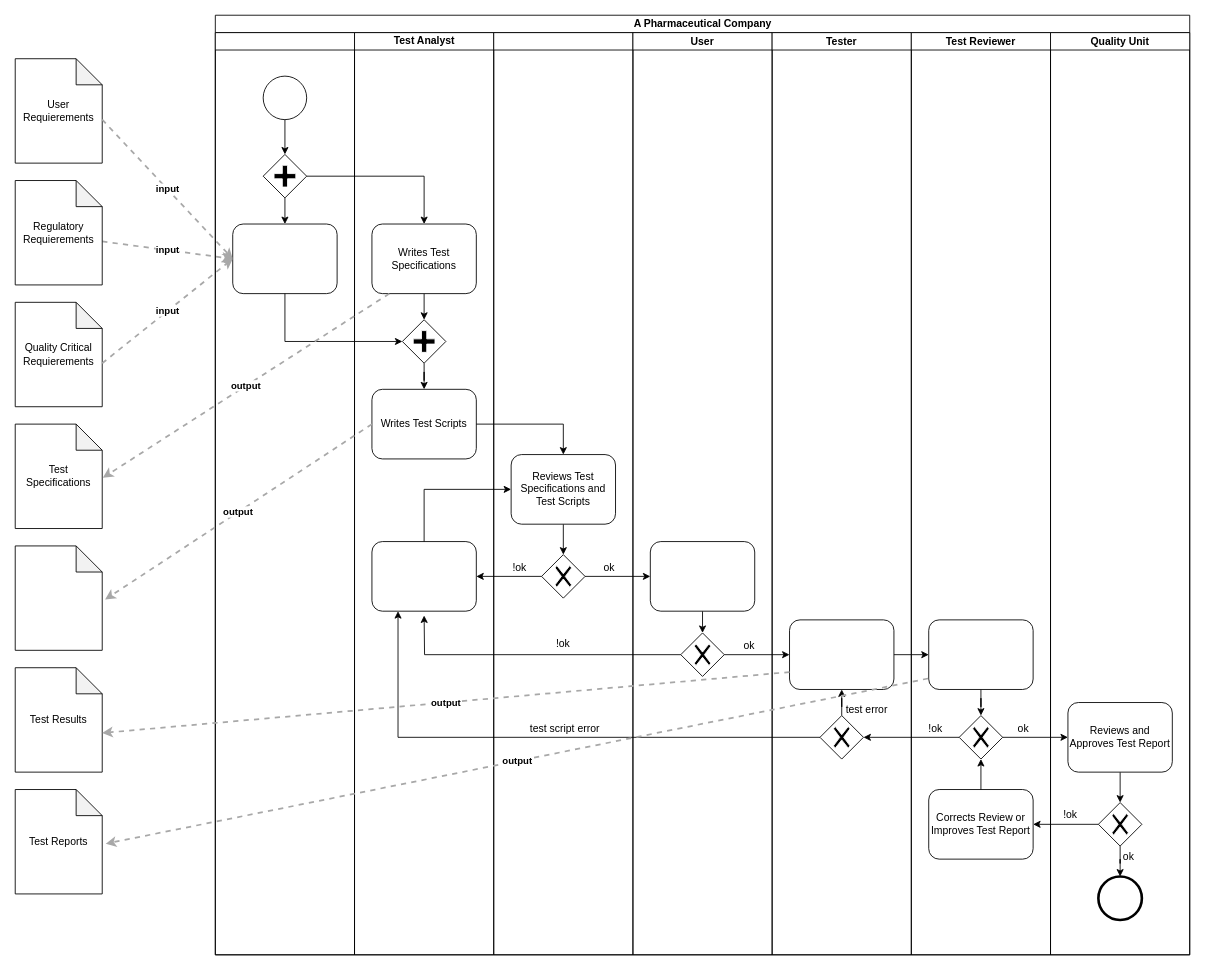
Some shapes in this 1205 by 970 pixel diagram are drawn without their labels. Each missing label, with the box of its shape:
Approves Test Specifications and Test Scripts: (649, 541, 755, 611)
Develops Functional Specifications: (232, 223, 337, 294)
Improves Documents: (371, 541, 476, 611)
IT Unit: (214, 32, 355, 955)
Performs Testings and Documents Test Results: (789, 619, 894, 689)
Reviews Test Results and writes Test Report: (928, 619, 1033, 689)
SME: (493, 32, 633, 955)
Test Scripts: (14, 545, 102, 650)
